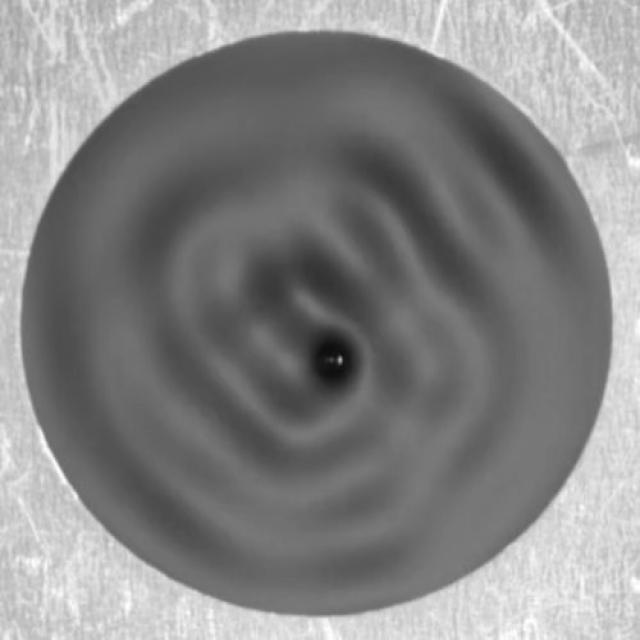droplet: (314, 342, 354, 386)
